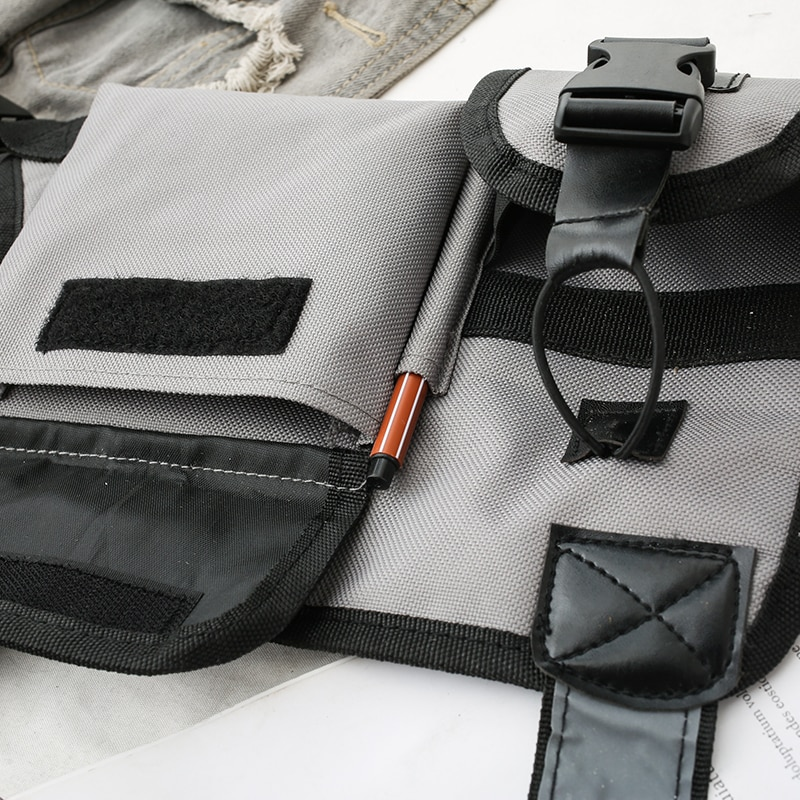Men's Backpacks: (1, 34, 800, 800)
